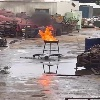fire: (39, 25, 58, 41)
